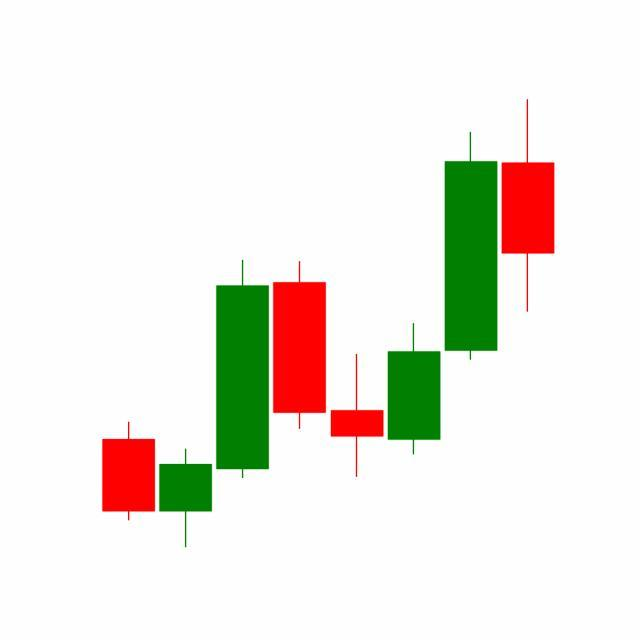Three Outside Up-Down: (328, 128, 500, 482)
